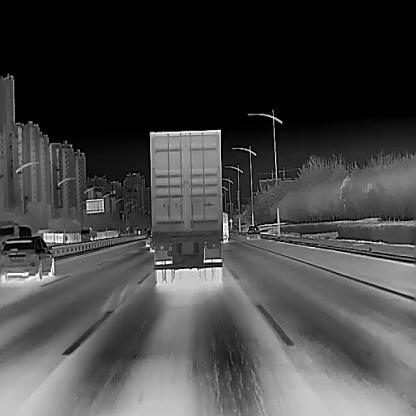car: (149, 128, 223, 283), (1, 234, 55, 280), (0, 219, 32, 247), (220, 212, 228, 242), (80, 227, 97, 241), (246, 225, 259, 238)
